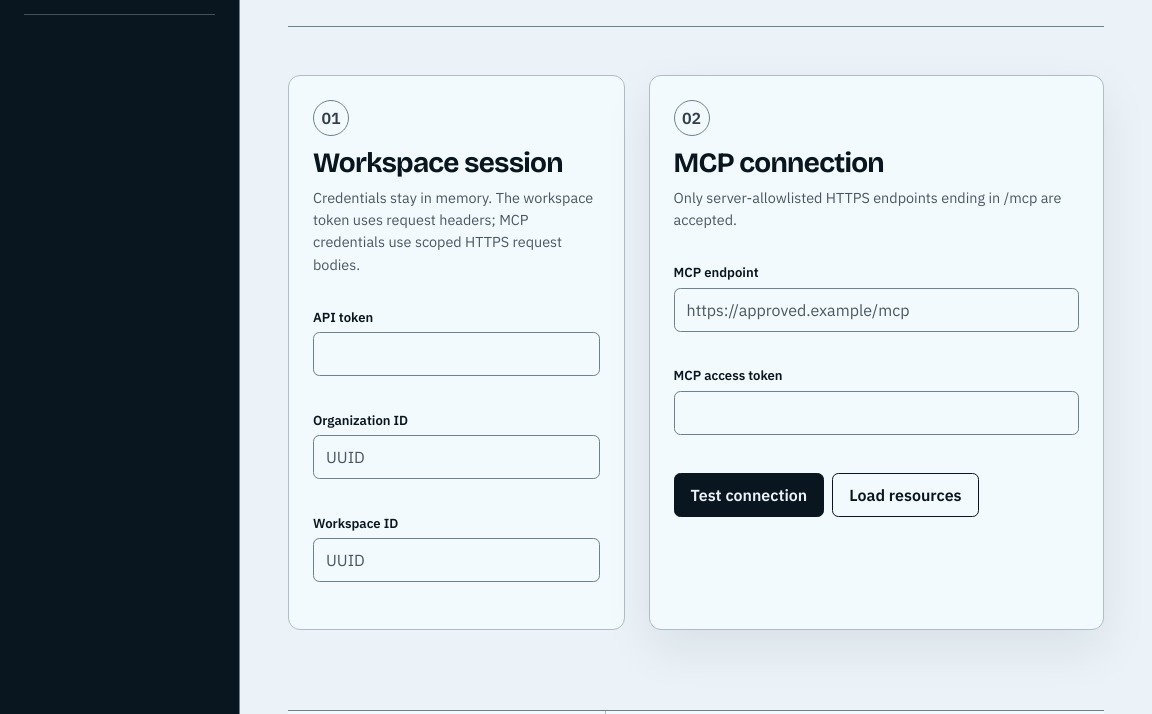
Test case: operator workbench shell › lists bounded MCP resources and sends one to the pending review queue
The width and height of the screenshot is (1152, 714).
(page scrolled)
Type "workspace-api-token" into the password field labelled "API token" at coordinates (456, 354), box x1=313 y1=332 x2=600 y2=376
Type "11111111-1111-4111-8111-111111111111" into the field labelled "Organization ID" at coordinates (456, 457), box x1=313 y1=435 x2=600 y2=479
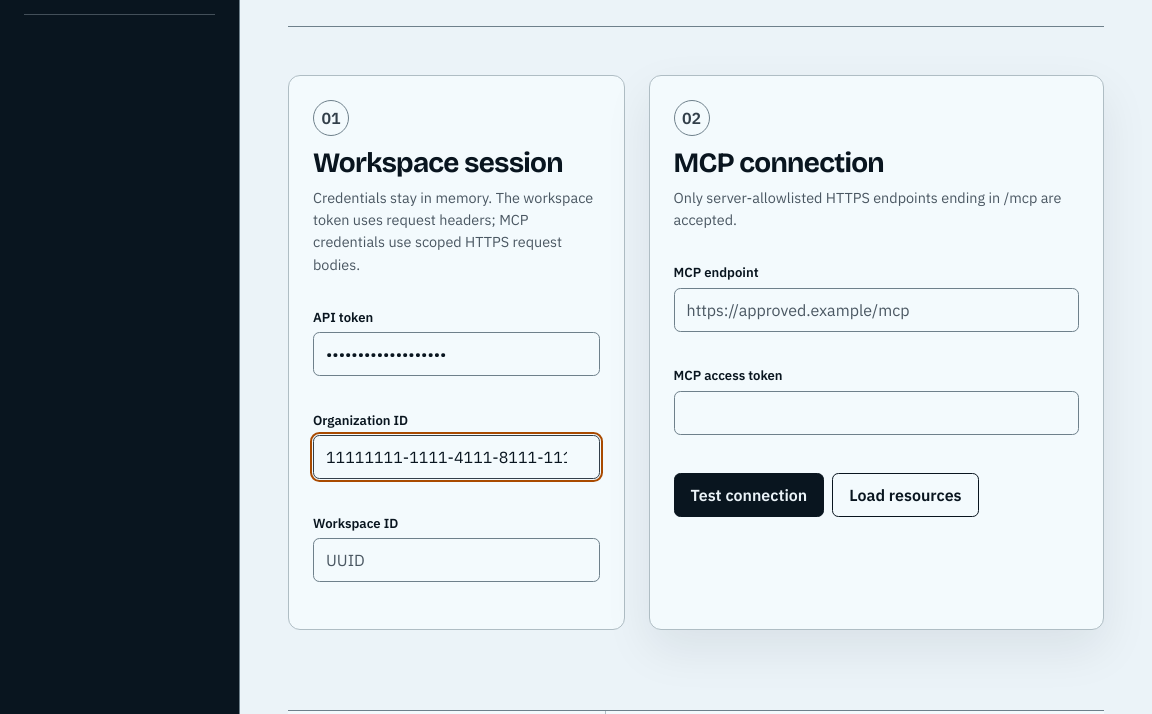
Type "22222222-2222-4222-8222-222222222222" into the field labelled "Workspace ID" at coordinates (456, 560), box x1=313 y1=538 x2=600 y2=582
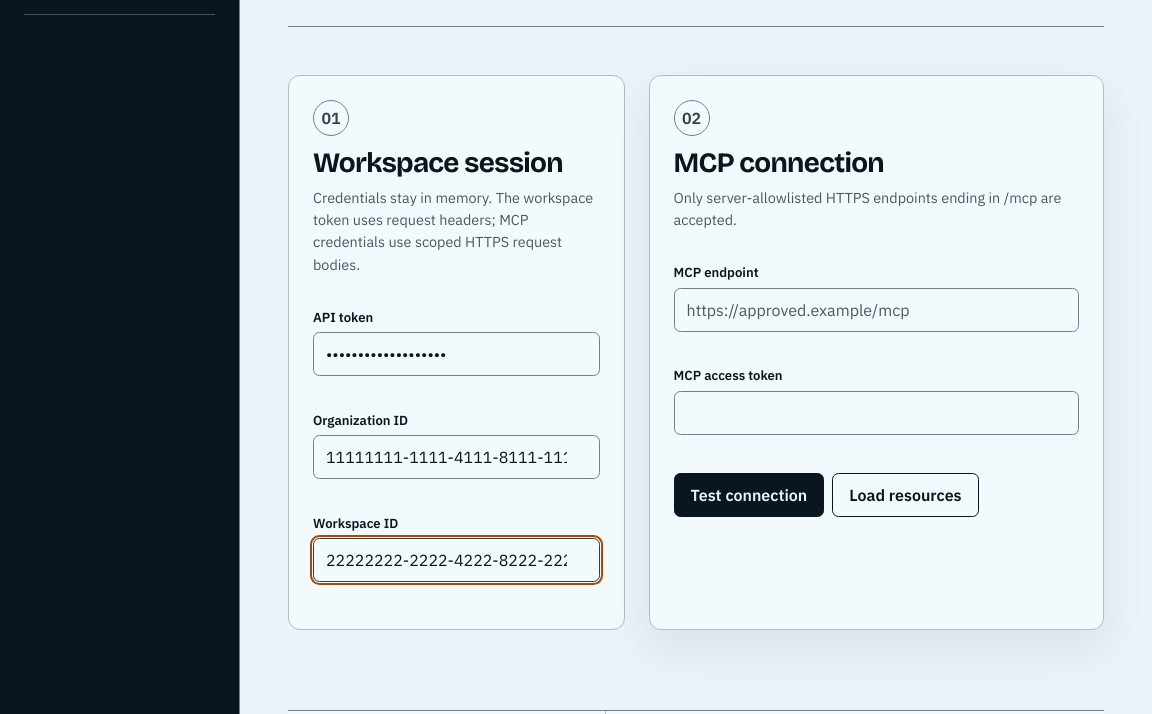
Type "https://atlas.example/mcp" into the field labelled "MCP endpoint" at coordinates (876, 310), box x1=674 y1=288 x2=1079 y2=332
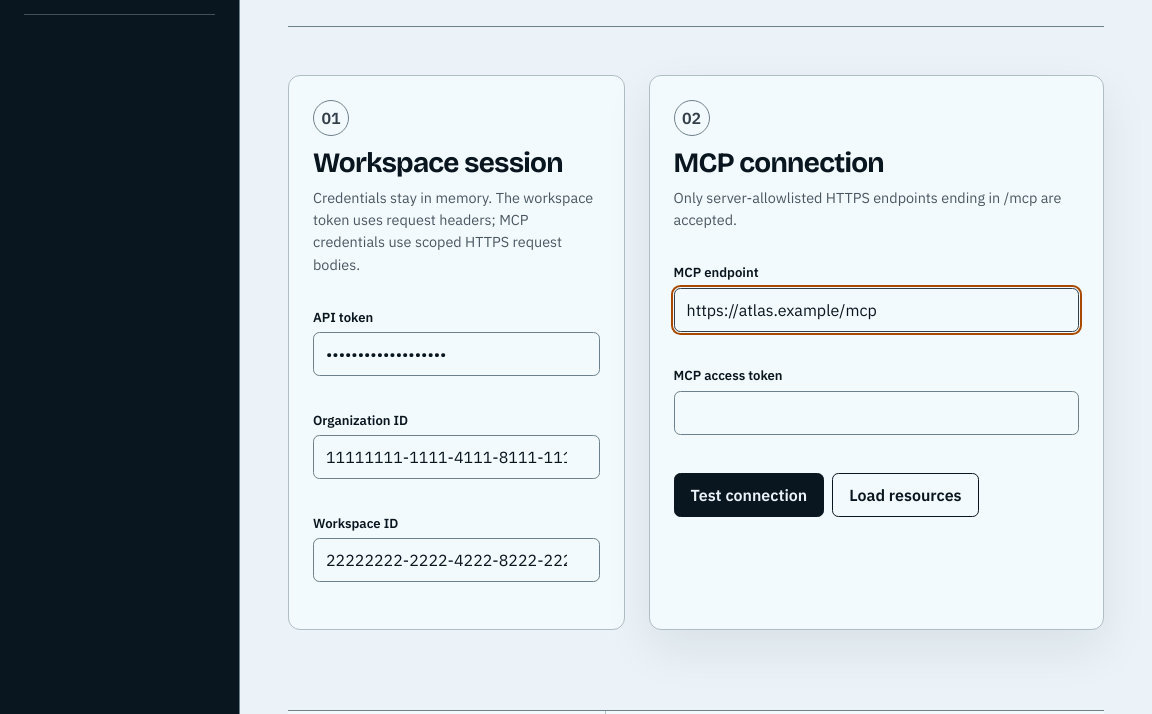
Type "connector-secret" into the password field labelled "MCP access token" at coordinates (876, 413), box x1=674 y1=391 x2=1079 y2=435
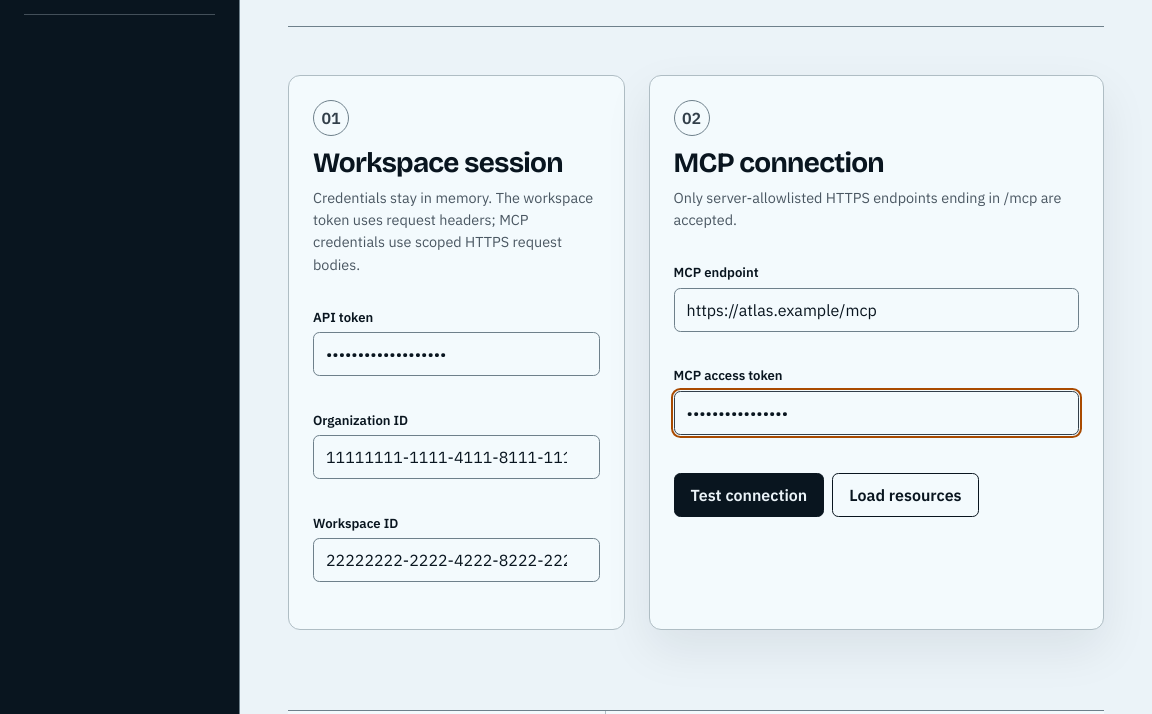
Click the button "Load resources" at coordinates (905, 495), box x1=832 y1=473 x2=979 y2=517
(page scrolled)
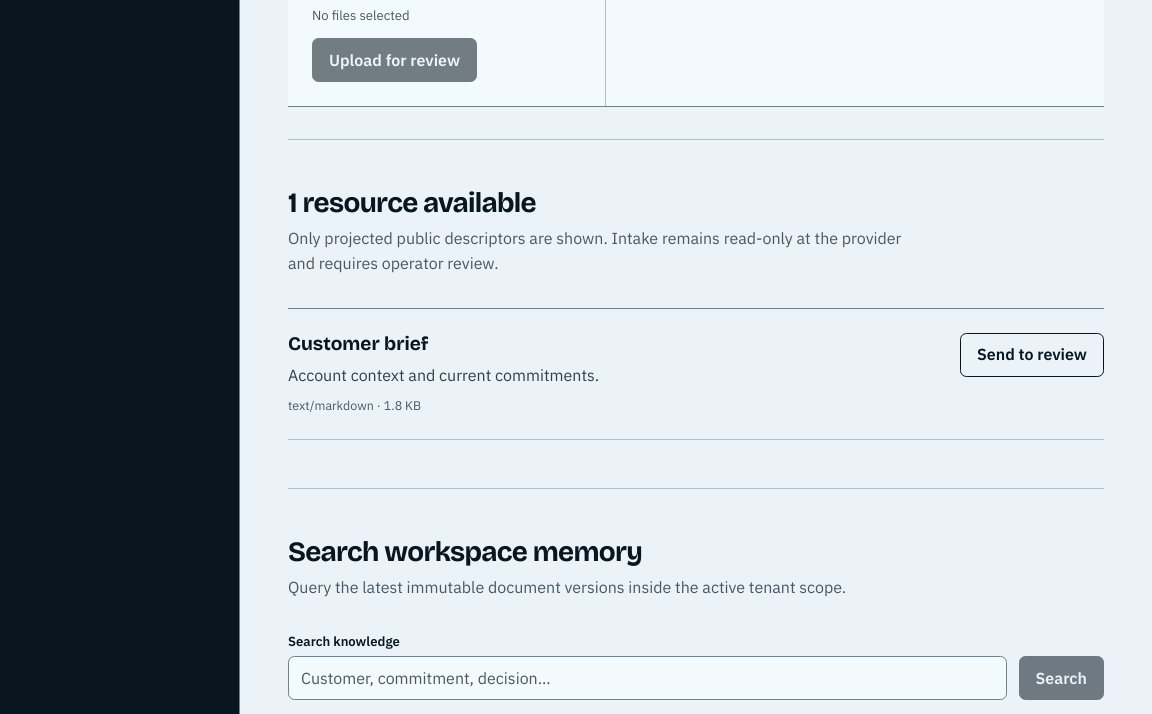
Now the heading "Customer brief" is shown, box x1=288 y1=332 x2=428 y2=355
Now the text "Account context and current commitments." is shown, box x1=288 y1=365 x2=599 y2=385
Now the text "text/markdown · 1.8 KB" is shown, box x1=288 y1=397 x2=421 y2=413
Click the button with aria-label "Send Customer brief to review" at coordinates (1032, 355), box x1=960 y1=333 x2=1104 y2=377
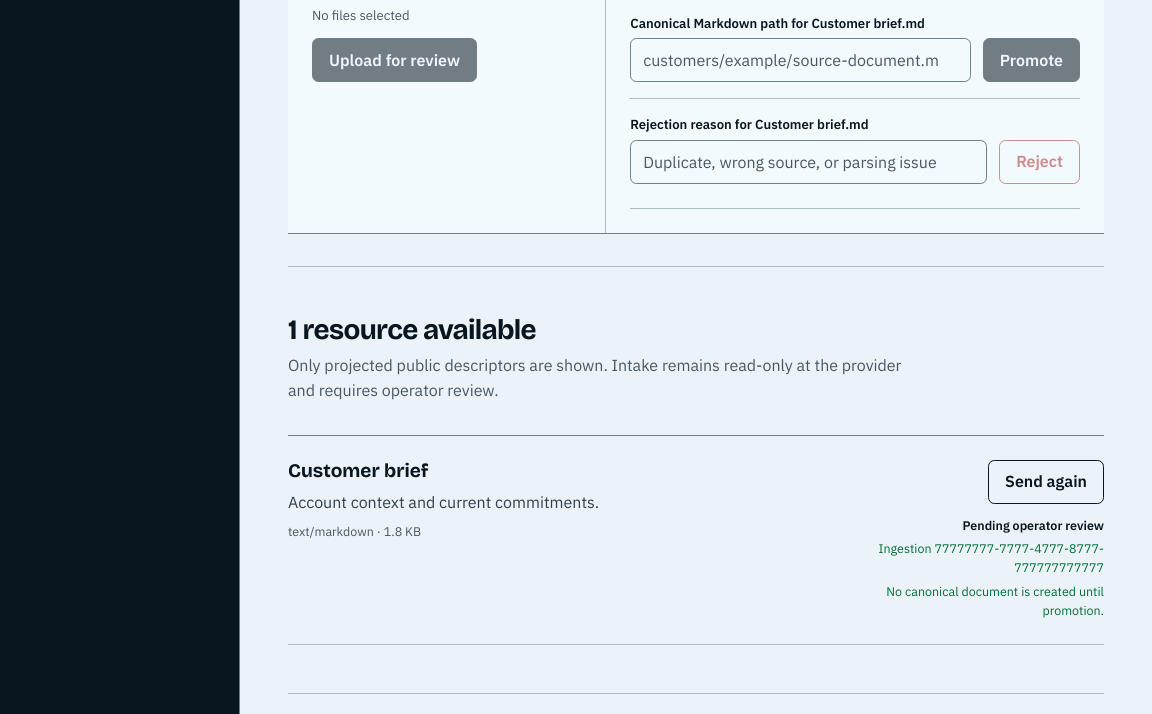
Now the text "Pending operator review" is shown, box x1=963 y1=517 x2=1104 y2=533
